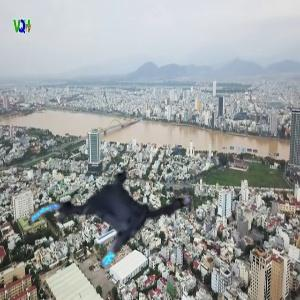drone: (32, 146, 179, 293)
